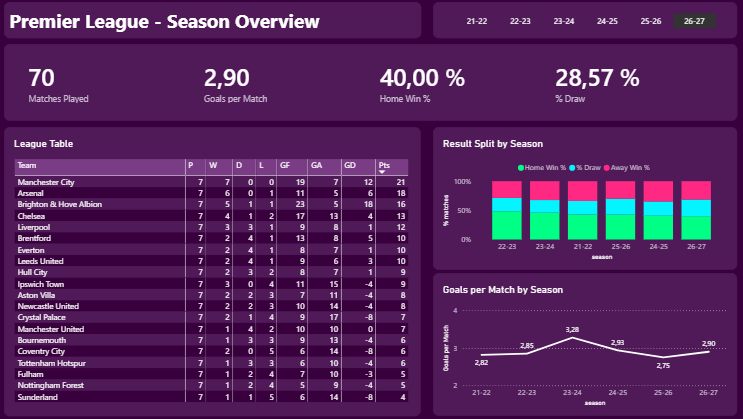

The page's visual inventory and layout, read from the dashboard file:
{"tool":"powerbi","page":{"name":"League Overview","canvas":[1280,720],"ordinal":0},"visuals":[{"type":"cardVisual","fields":{"Data":["_Measures.Matches","_Measures.Goals per Match","_Measures.% Home Wins","_Measures.% Draw"]},"box":[23.4,87.8,1232.2,128.8],"z":0},{"type":"slicer","title":"Season","fields":{"Values":["matches.season"]},"box":[744.9,16.1,510.7,61.5],"z":1000},{"type":"textbox","box":[23.4,16.1,701,61],"z":2000},{"type":"tableEx","title":"League Table","fields":{"Values":["teams.team","_Measures.Games Played","_Measures.Wins","_Measures.Draws","_Measures.Losses","_Measures.Goals For","_Measures.Goals Against","_Measures.Goal Difference","_Measures.Points"]},"box":[23.4,226.8,700,485.9],"z":3000},{"type":"hundredPercentStackedColumnChart","title":"Result Split by Season","fields":{"Category":["matches.season"],"Y":["_Measures.% Home Wins","_Measures.% Draw","_Measures.% Away Wins"]},"box":[744.9,226.8,510.7,240],"z":4000},{"type":"lineChart","title":"Goals per Match by Season","fields":{"Y":["_Measures.Goals per Match"],"Category":["matches.season"]},"box":[744.9,472.7,510.7,240],"z":5000}]}

Visuals, with their boxes in screenshot pixels (x1, y1, x2, y2), scaled from the page's 1280x720 canvas onto the 743x419 screenshot:
cardVisual - _Measures.Matches x _Measures.Goals per Match: {"x1": 14, "y1": 51, "x2": 729, "y2": 126}
"Season" slicer: {"x1": 432, "y1": 9, "x2": 729, "y2": 45}
textbox: {"x1": 14, "y1": 9, "x2": 420, "y2": 45}
"League Table" tableEx: {"x1": 14, "y1": 132, "x2": 420, "y2": 415}
"Result Split by Season" hundredPercentStackedColumnChart: {"x1": 432, "y1": 132, "x2": 729, "y2": 272}
"Goals per Match by Season" lineChart: {"x1": 432, "y1": 275, "x2": 729, "y2": 415}
